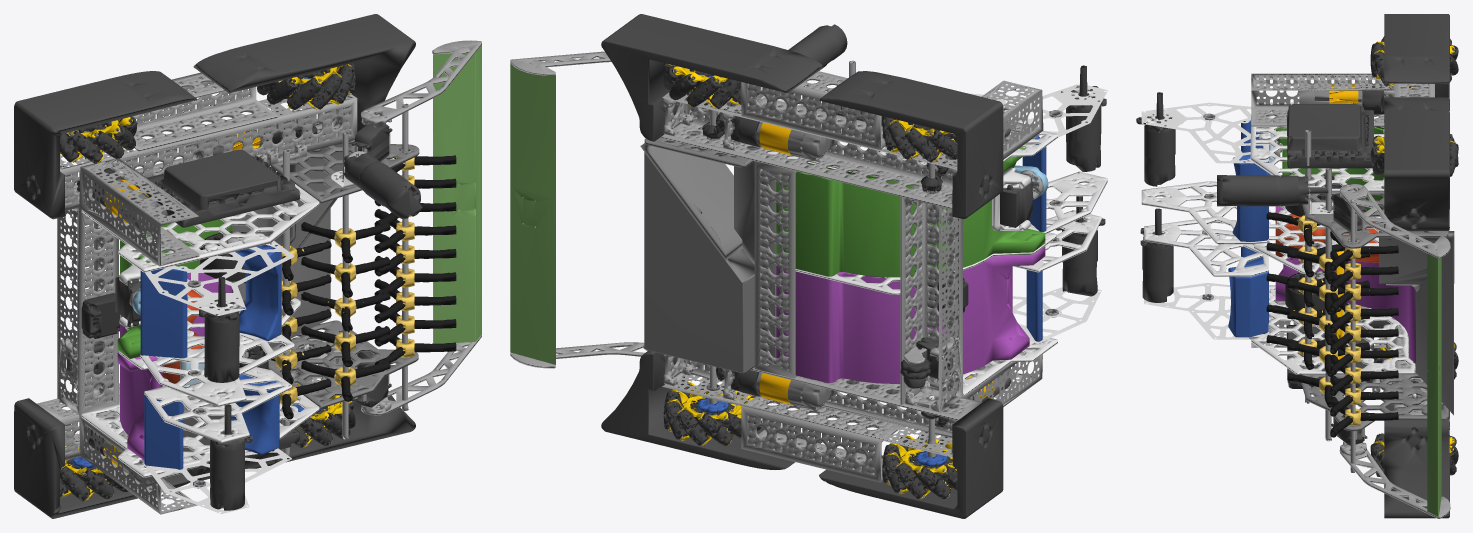
3 renders of one model, left to right at view 1: azimuth 30°, elevation 25°; view 2: azimuth 150°, elevation 25°; view 3: azimuth 270°, elevation 25°, orthographic. The views are drawn at different scales.
Bounding box in the file's own units: 0.5584 × 0.452 × 0.3787.
